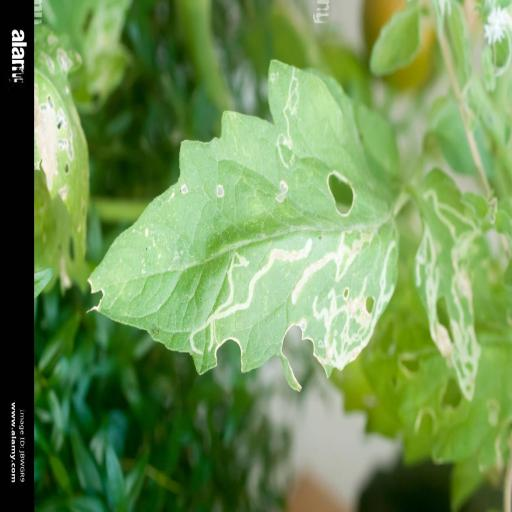Leaf Miner: (84, 60, 400, 394), (410, 158, 490, 402)
